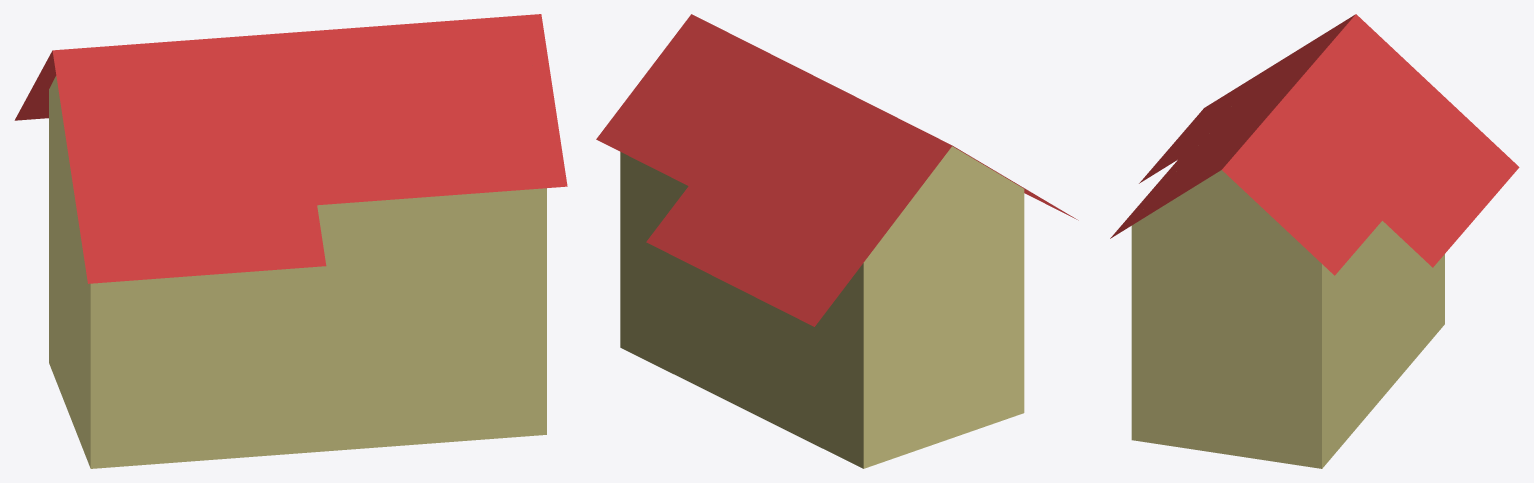
3 renders of one model, left to right at view 1: azimuth 30°, elevation 25°; view 2: azimuth 150°, elevation 25°; view 3: azimuth 270°, elevation 25°, orthographic. The views are drawn at different scales.
Bounding box in the file's own units: 19.67 × 17.34 × 13.52.
